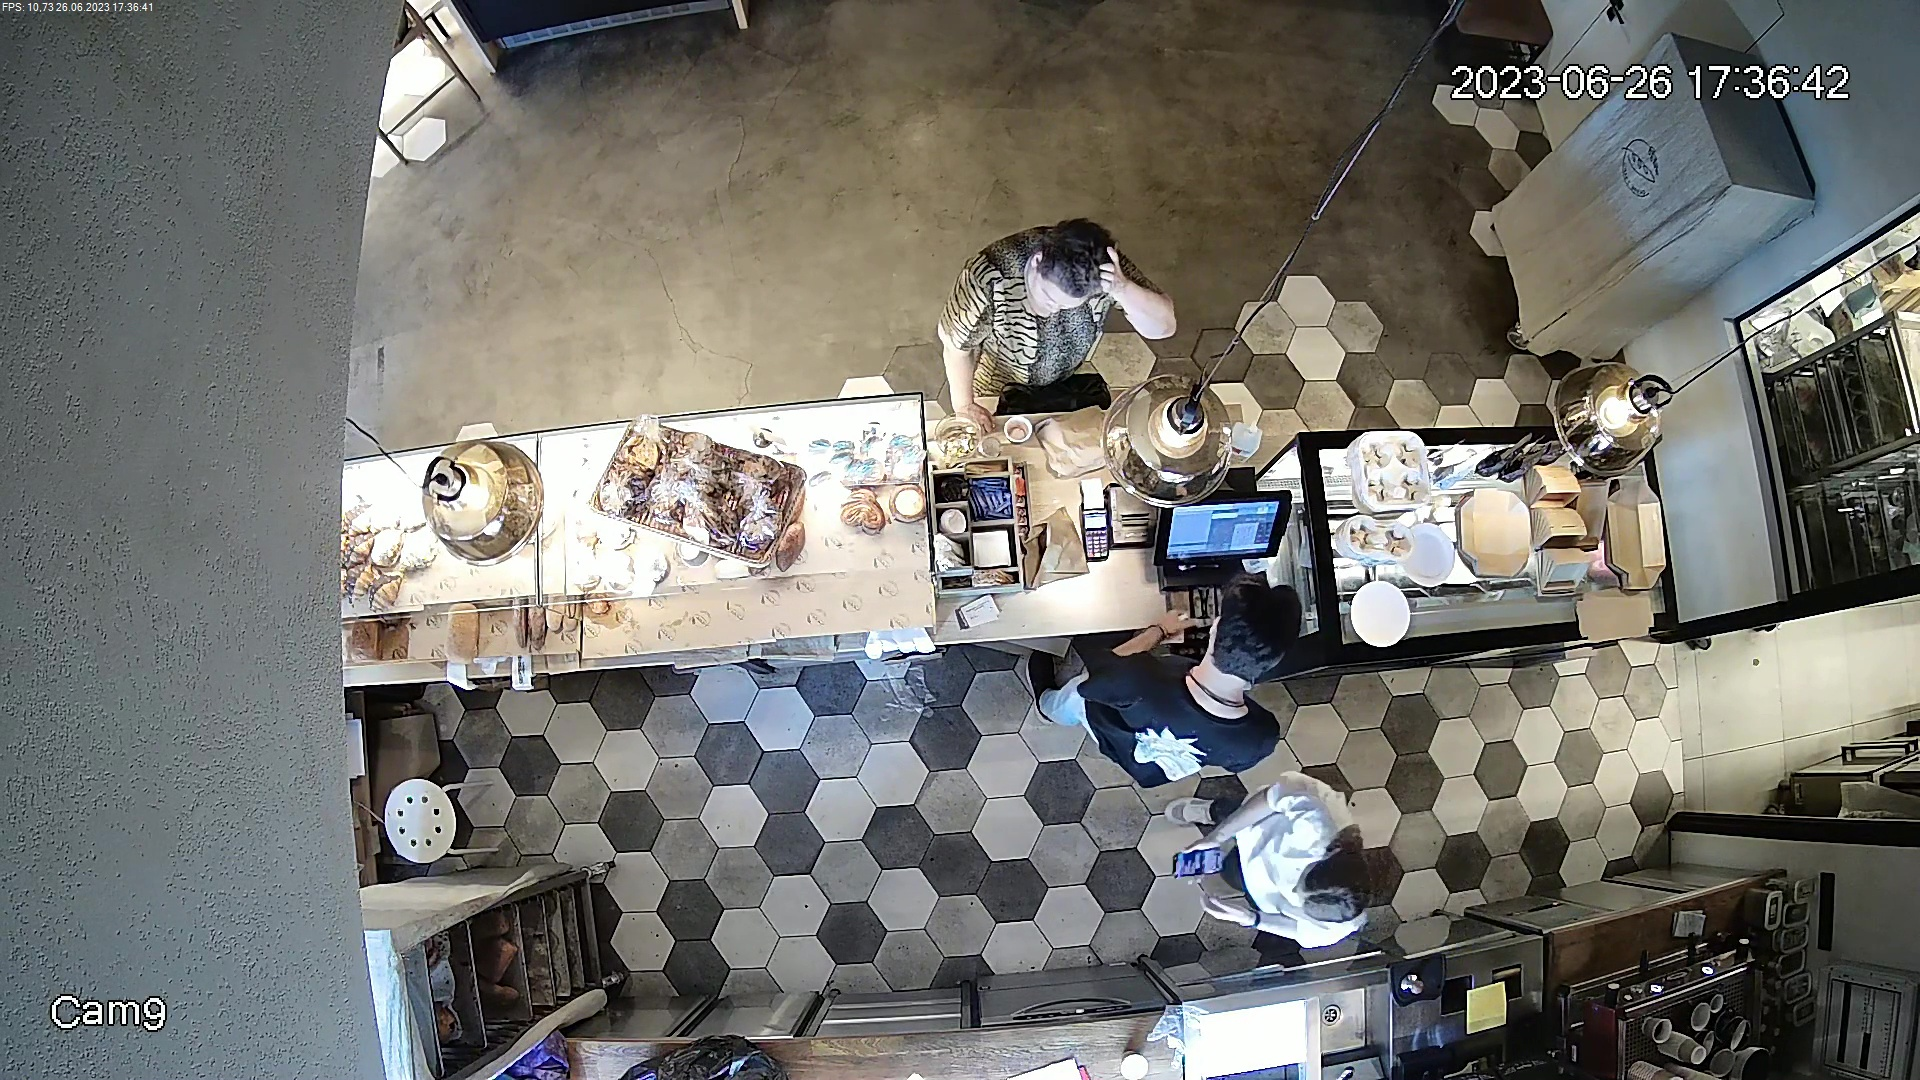barcounter: (363, 418, 1685, 692)
coffee: (999, 409, 1035, 445)
openedcash: (1153, 491, 1291, 646)
pack: (1011, 506, 1090, 592), (1035, 405, 1117, 476)
person: (1169, 785, 1382, 951)
